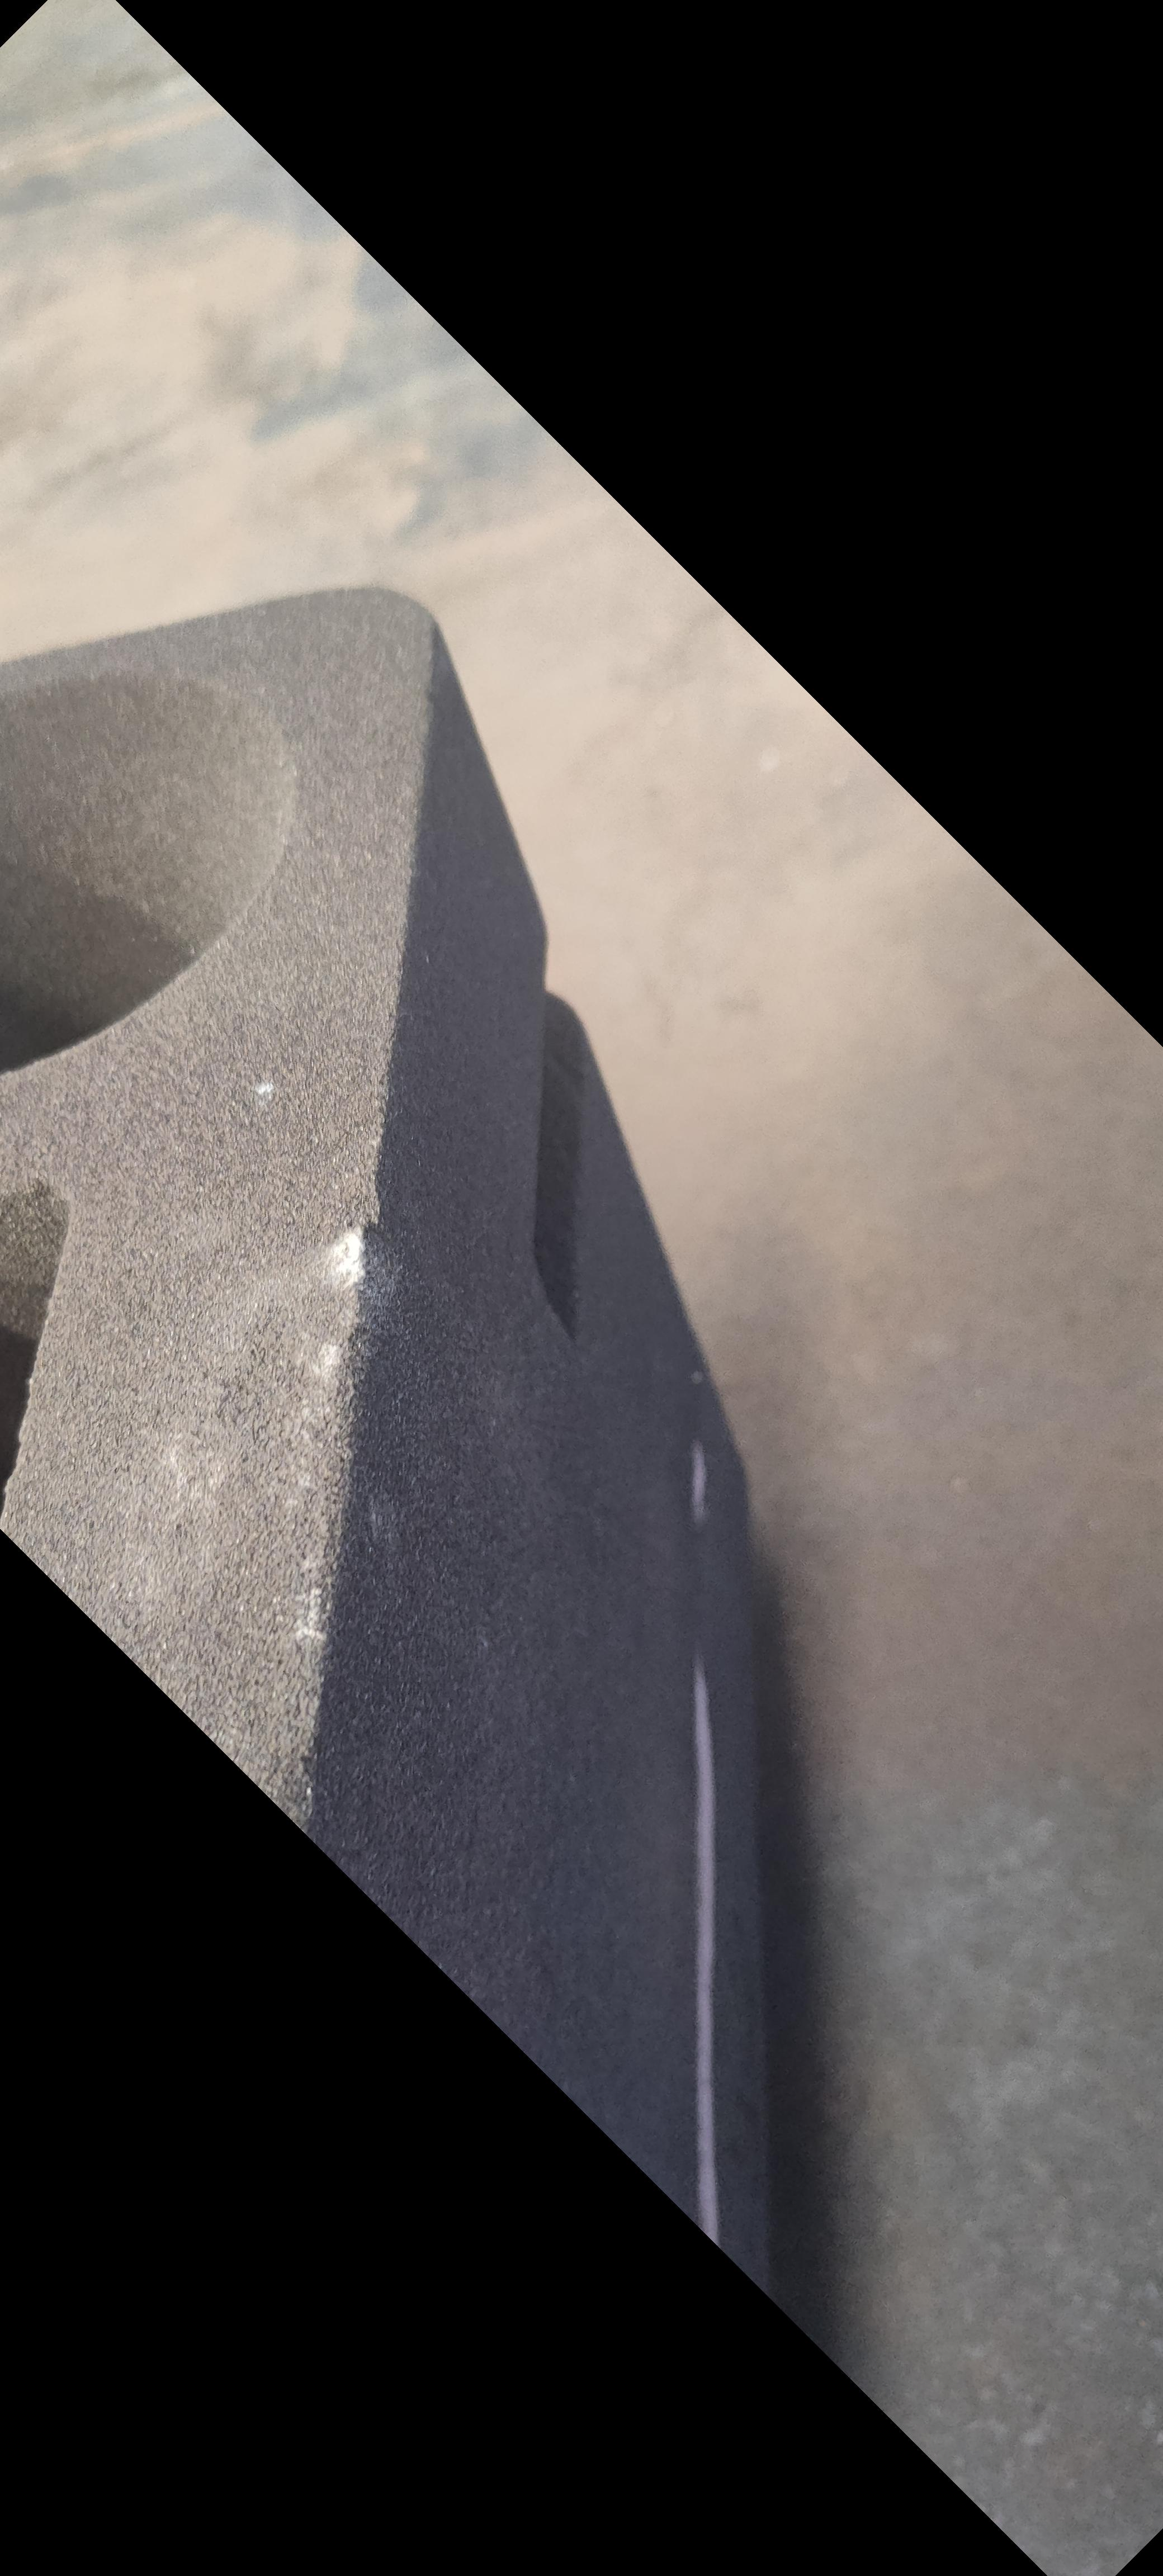pouring hole: (0, 664, 296, 1084)
